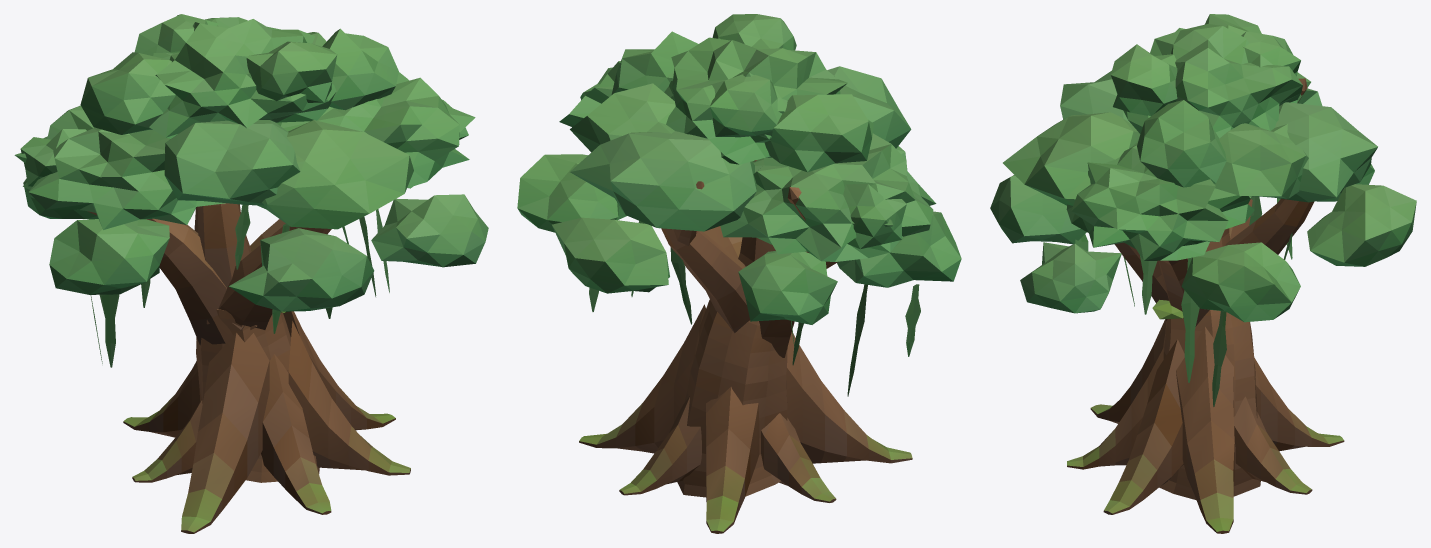
The model's file is world_tree_colossal_broad_v3.fbx.
The picture shows the model from 3 angles, left to right: view 1: azimuth 30°, elevation 25°; view 2: azimuth 150°, elevation 25°; view 3: azimuth 270°, elevation 25°; orthographic projection. The views are drawn at different scales.
Parts seen in each view (by area): view 1: world_tree_colossal_broad_v3; view 2: world_tree_colossal_broad_v3; view 3: world_tree_colossal_broad_v3.
Boxes of the visible parts, <box> form: world_tree_colossal_broad_v3: <box>14,14,488,533</box>; world_tree_colossal_broad_v3: <box>517,14,961,533</box>; world_tree_colossal_broad_v3: <box>990,14,1416,533</box>.
Bounding box in the file's own units: 10855 × 11759 × 10584.
